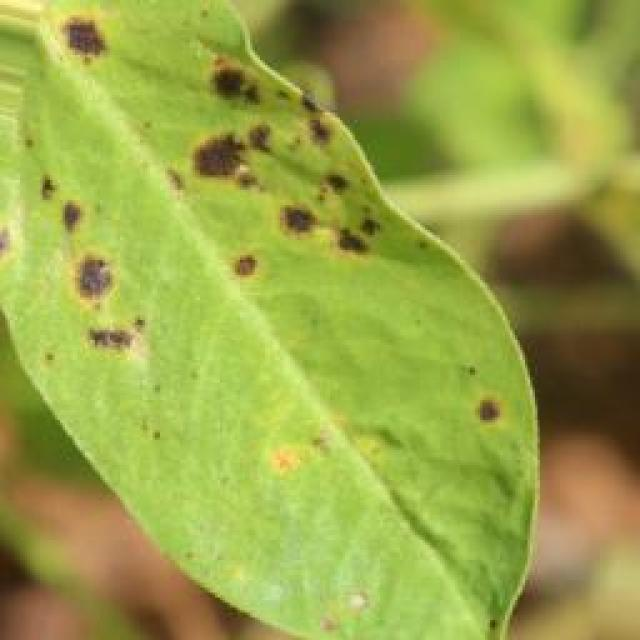Yellowish: (0, 0, 410, 342), (244, 392, 368, 517), (414, 357, 522, 468)
